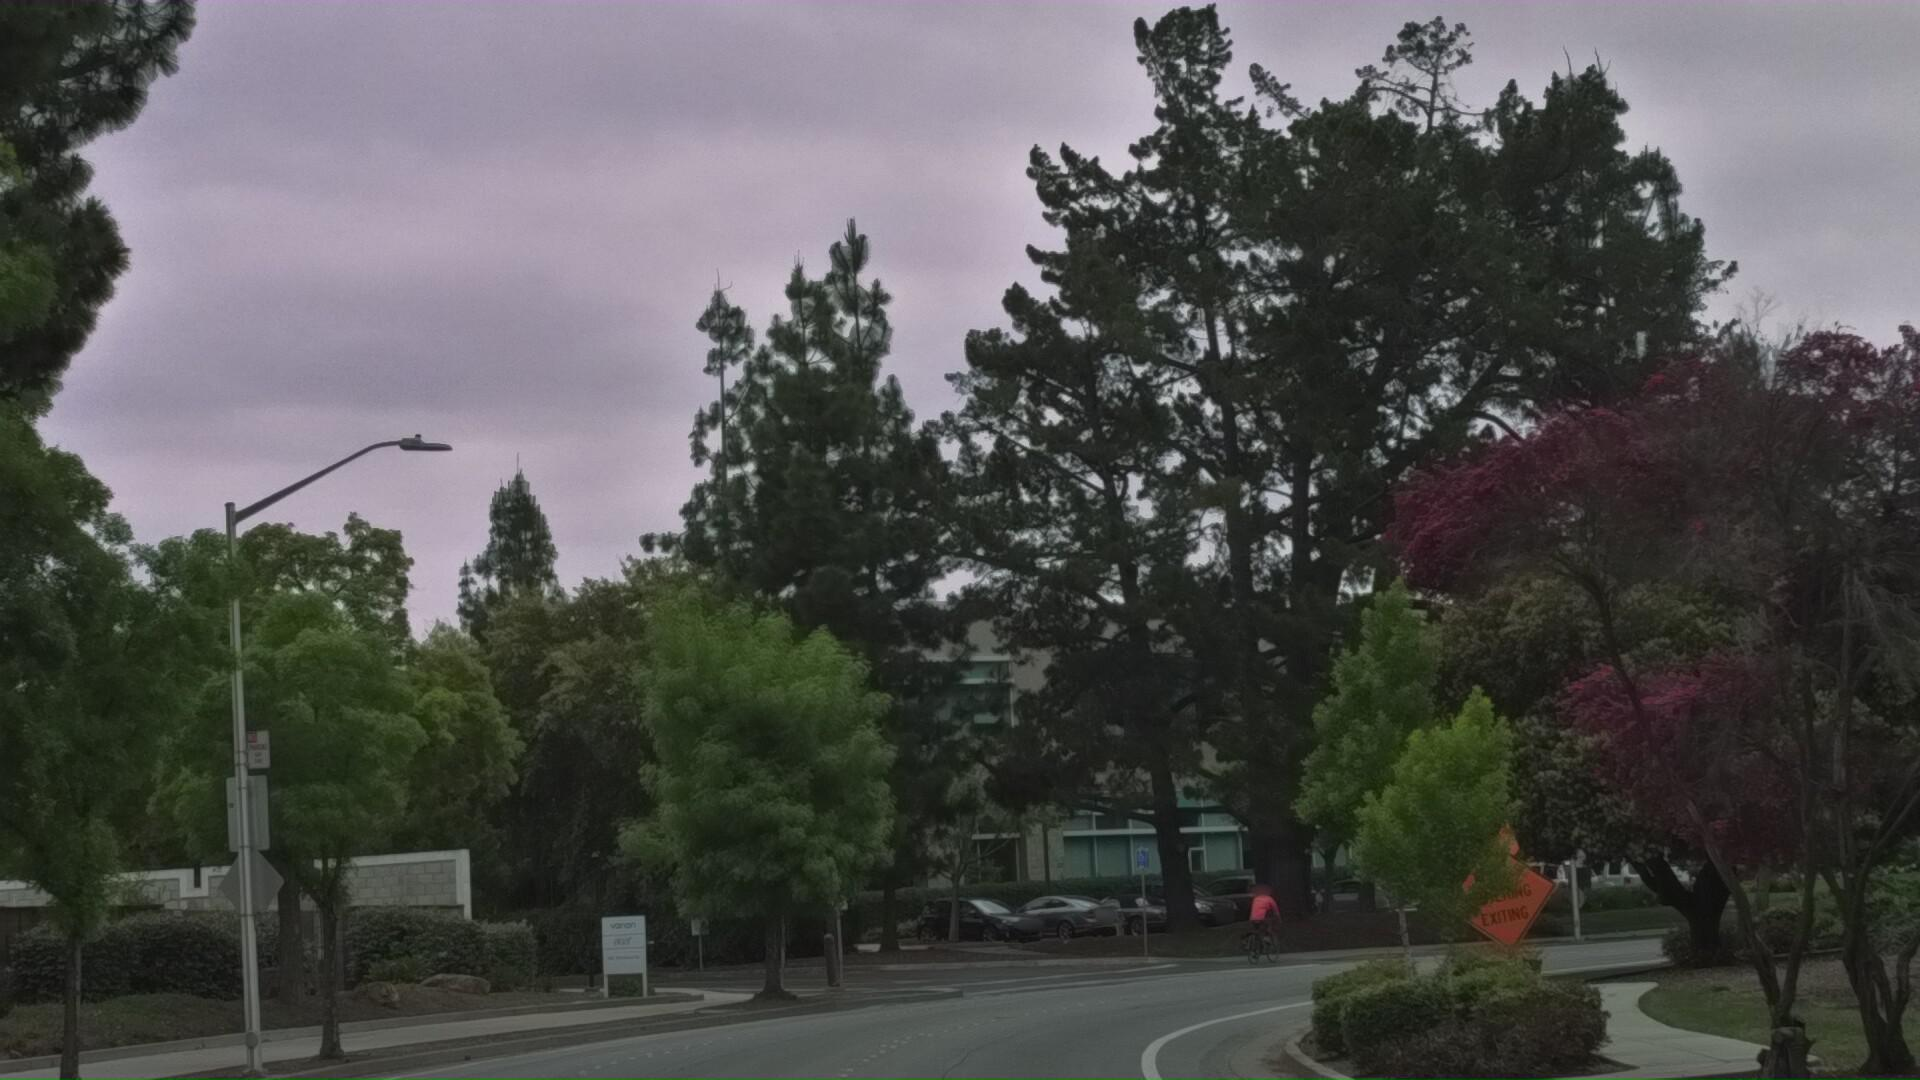bicycle: (1203, 975, 1335, 1080)
